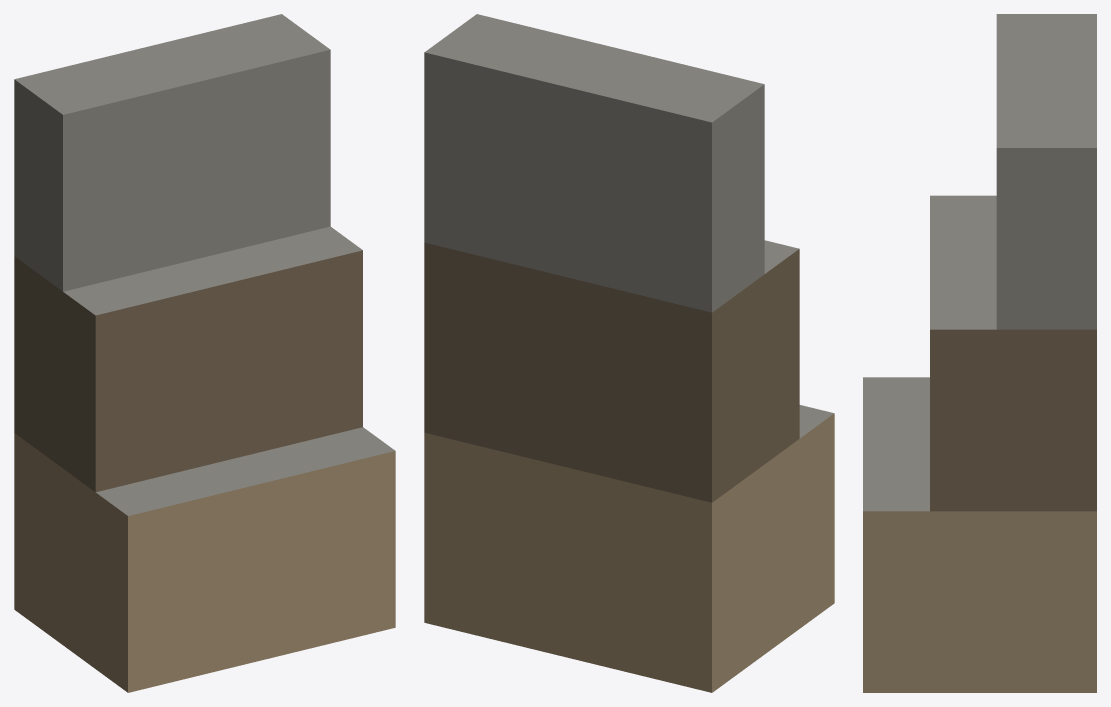
File: banco_rajo.obj
The picture shows the model from 3 angles, left to right: view 1: azimuth 30°, elevation 25°; view 2: azimuth 150°, elevation 25°; view 3: azimuth 270°, elevation 25°; orthographic projection. The views are drawn at different scales.
Visible parts, largest first — view 1: banco_rajo; view 2: banco_rajo; view 3: banco_rajo.
Boxes of the visible parts, x1,y1,x2,y2 form: banco_rajo: [14, 14, 395, 692]; banco_rajo: [424, 14, 834, 692]; banco_rajo: [863, 14, 1096, 692].
Bounding box in the file's own units: 19 × 36 × 14.
